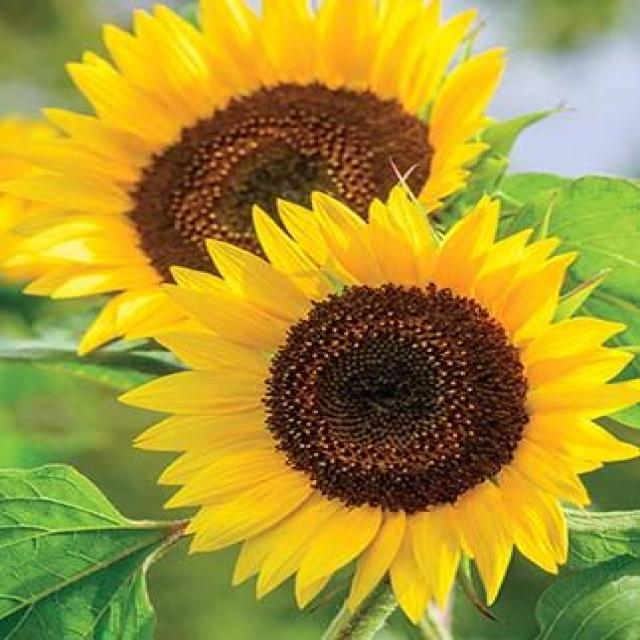sunflower: (87, 195, 638, 639), (0, 0, 558, 355)
